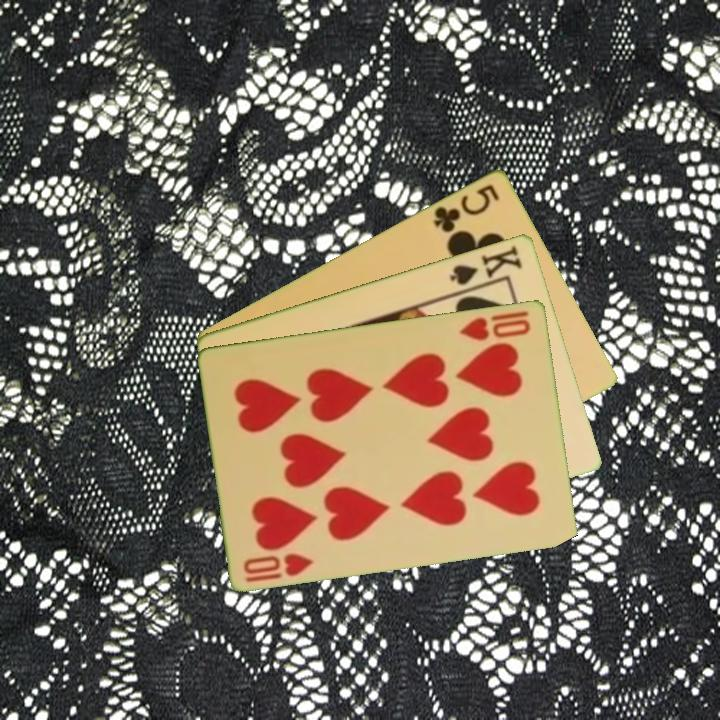10h: (240, 549, 317, 585), (456, 313, 534, 343)
5c: (429, 179, 502, 236)
Ks: (446, 240, 526, 295)
